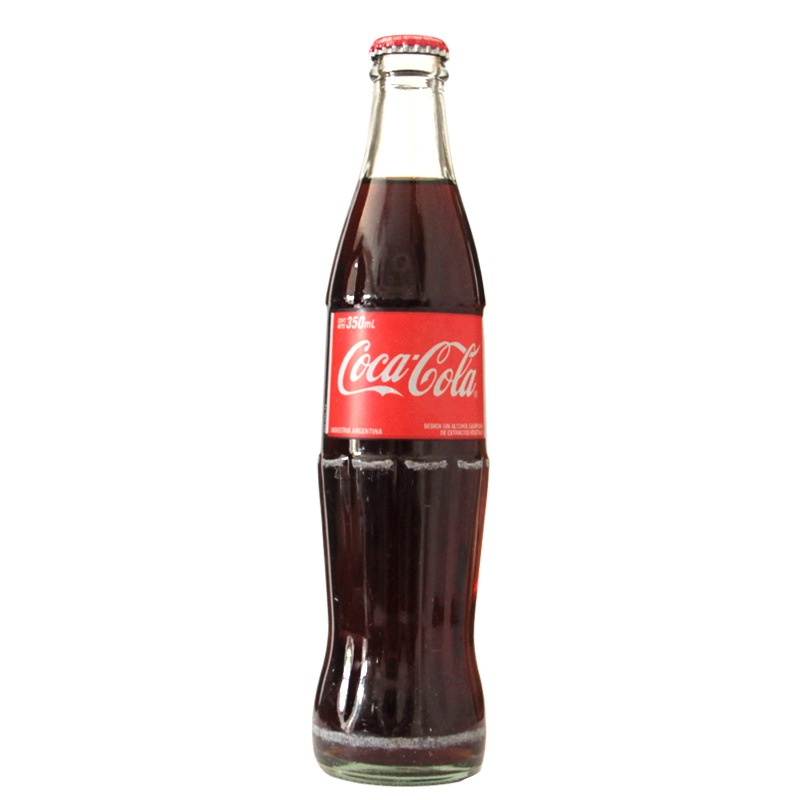botella: (304, 32, 496, 791)
